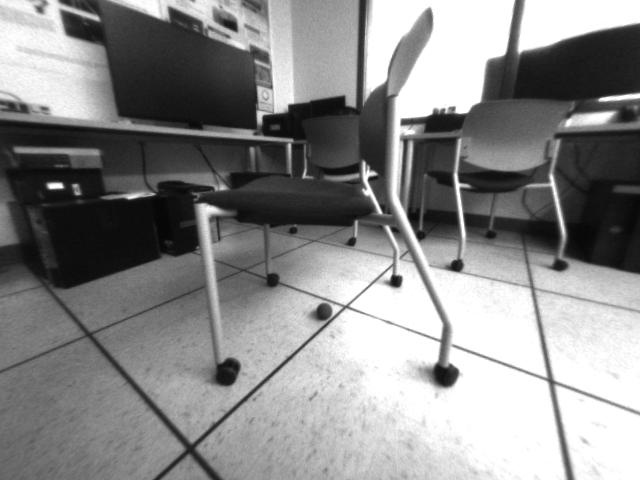dogtoy: (310, 301, 340, 324)
